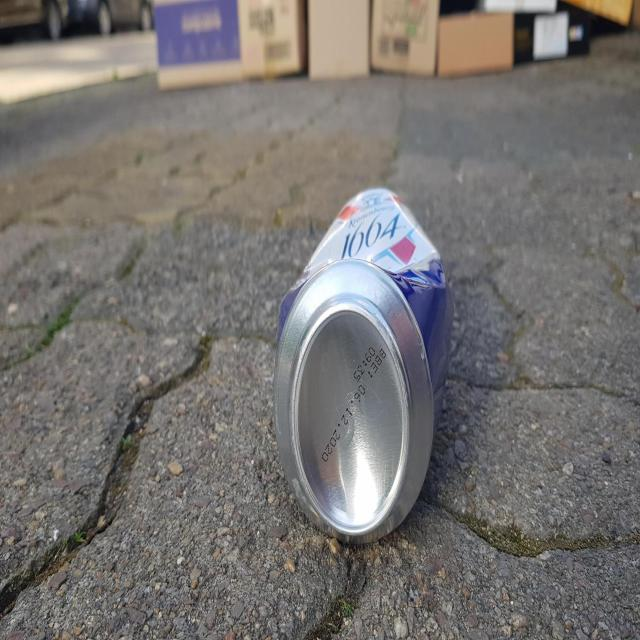can: (274, 187, 454, 543)
